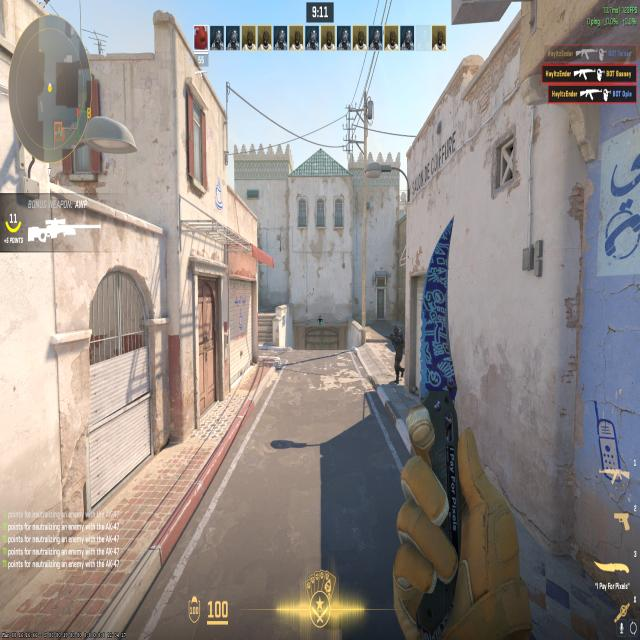ct: (386, 321, 406, 388)
